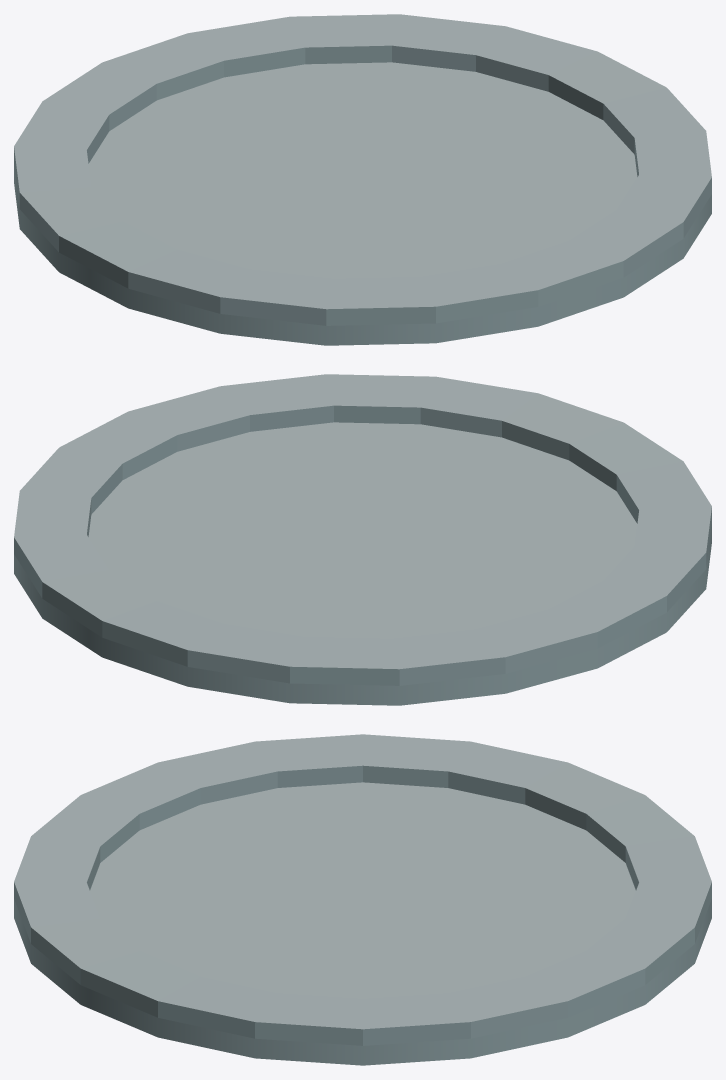
File: bord.fbx
3 views of the same model, one above another, from view 1: azimuth 30°, elevation 25°; view 2: azimuth 150°, elevation 25°; view 3: azimuth 270°, elevation 25° (orthographic).
Visible parts, largest first — view 1: bord; view 2: bord; view 3: bord.
Part boxes in pixels (x1,y1,x2,y2): bord: (14, 14, 711, 345); bord: (14, 374, 711, 705); bord: (14, 734, 711, 1065).
Bounding box in the file's own units: 1.61 × 0.0924 × 1.61.
